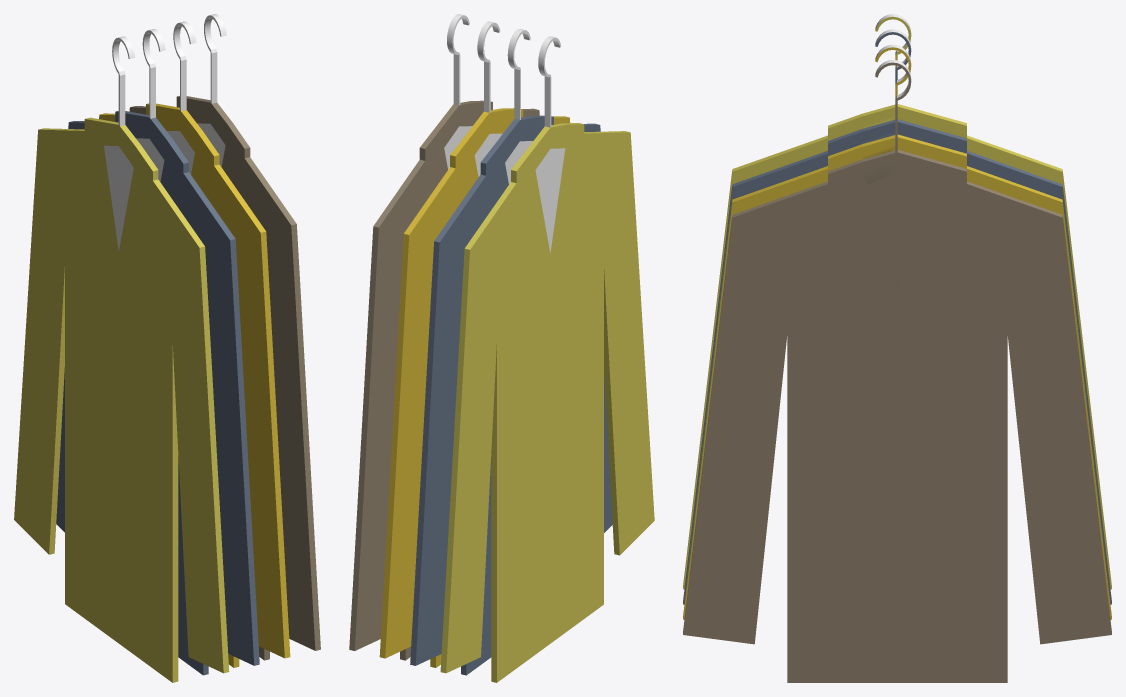
File: clothes1.fbx
3 views of the same model, side by side, from view 1: azimuth 30°, elevation 25°; view 2: azimuth 150°, elevation 25°; view 3: azimuth 270°, elevation 25° (orthographic). The views are drawn at different scales.
Visible parts, largest first — view 1: Group#8_003; view 2: Group#8_003; view 3: Group#8_003.
Boxes of the visible parts, x1,y1,x2,y2 form: Group#8_003: (14, 14, 320, 682); Group#8_003: (349, 14, 654, 682); Group#8_003: (683, 14, 1111, 682).
Bounding box in the file's own units: 13.65 × 81.28 × 50.94.
